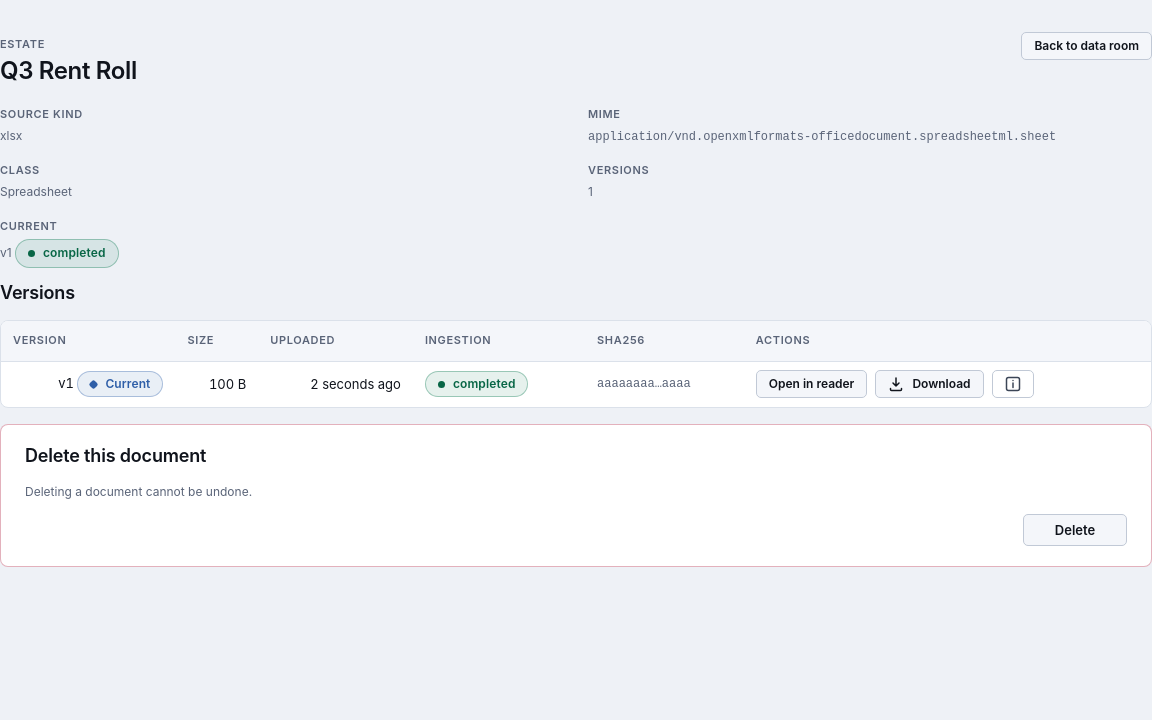
it: DocumentDetail › cancelling the delete dialog closes it without deleting
The width and height of the screenshot is (1152, 720).
Click the button "Delete" at (1075, 530), box [1023,514,1127,546]
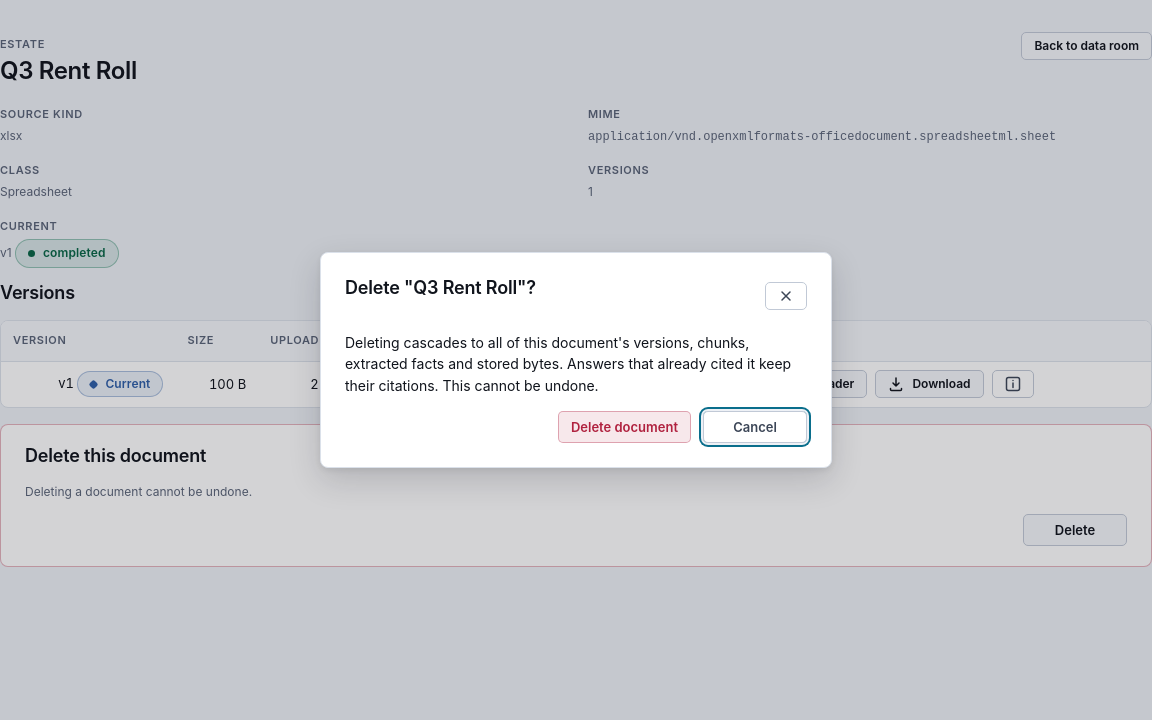
Click the button "Cancel" at (755, 427), box [703,411,807,443]
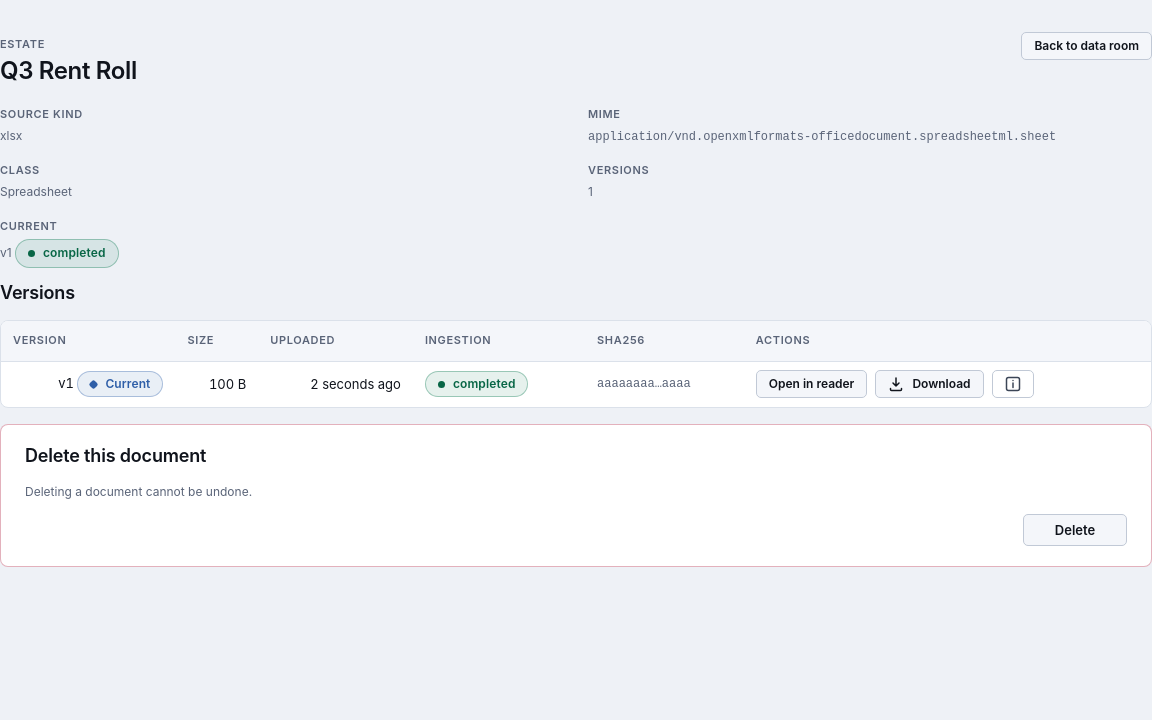
Expected: the button "Delete" is shown, [1023,514,1127,546]
Now the dialog is gone
